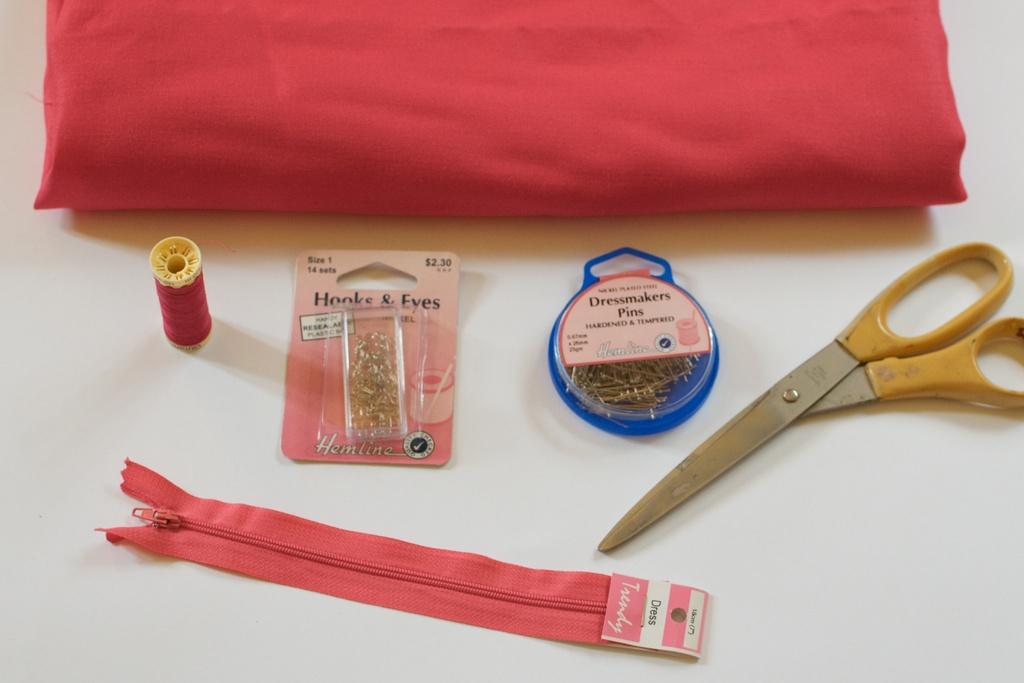Book: (279, 248, 460, 467)
